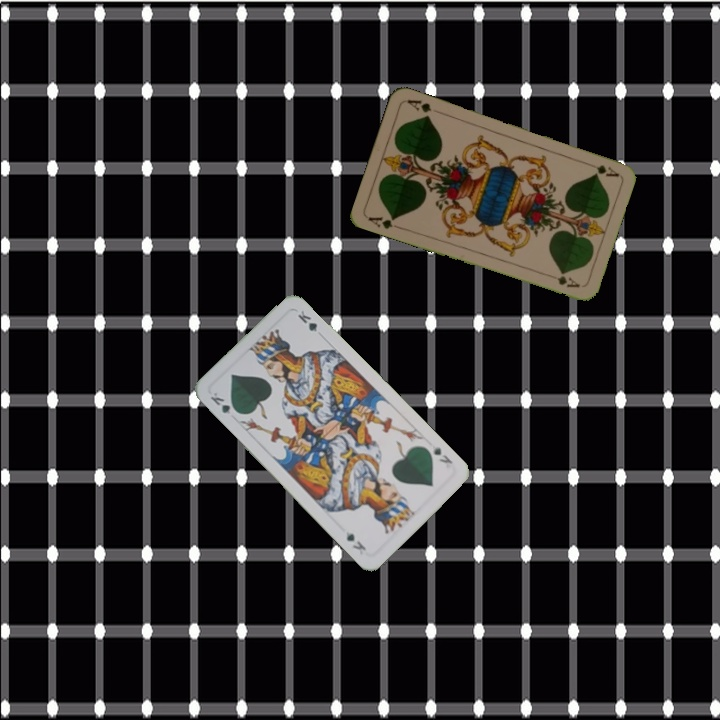GA: (582, 158, 621, 179), (364, 212, 404, 232)
GK: (206, 388, 242, 417), (427, 441, 455, 467)
